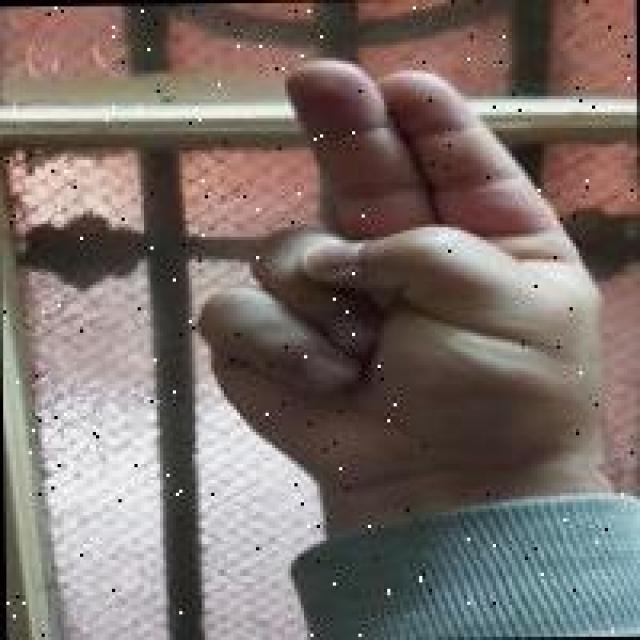U: (188, 45, 618, 470)
